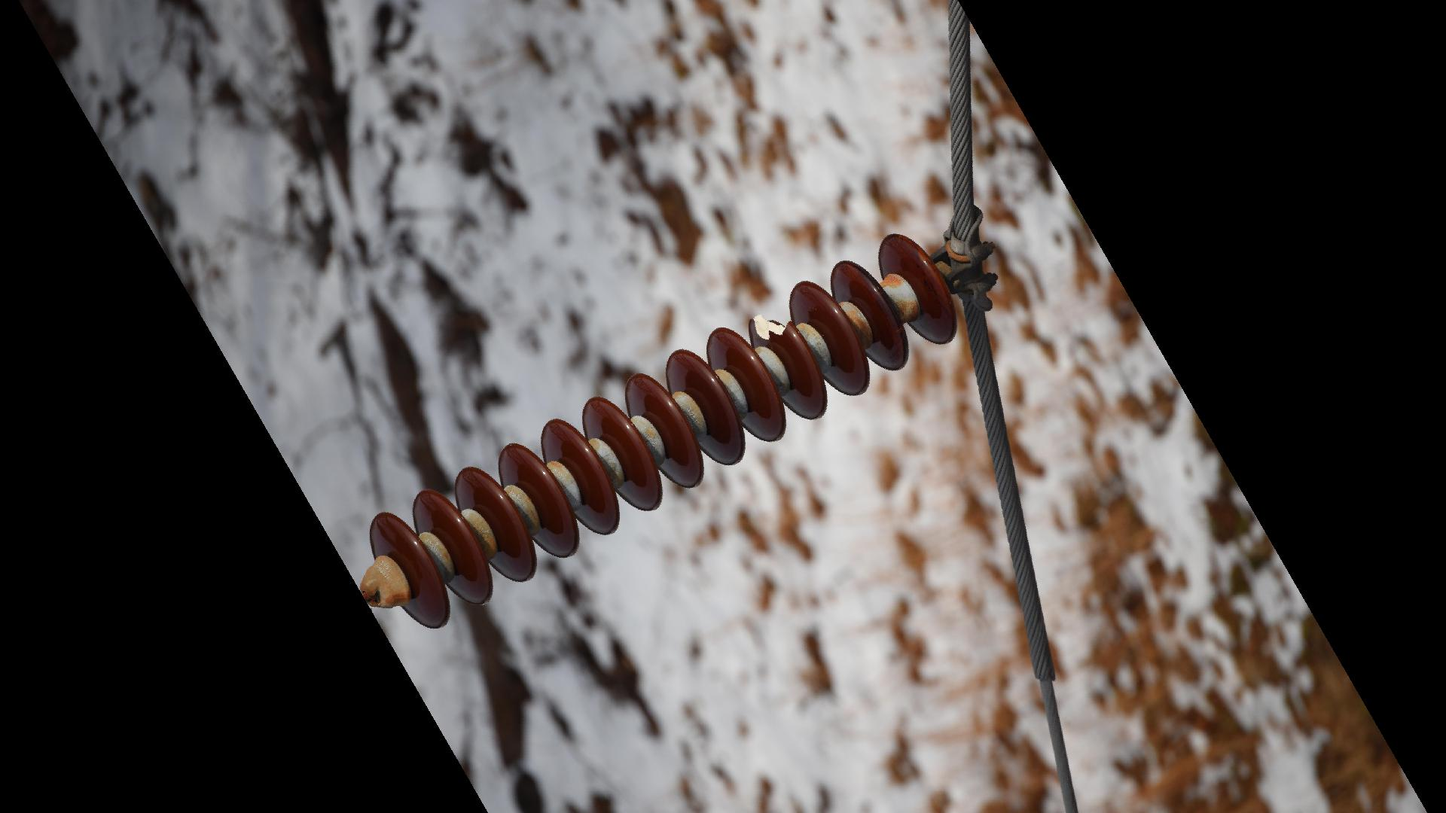insulator: (361, 227, 962, 635)
insulator_breakage: (742, 309, 801, 350)
